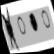correct: (27, 9, 40, 33)
not correct: (0, 4, 20, 53)
